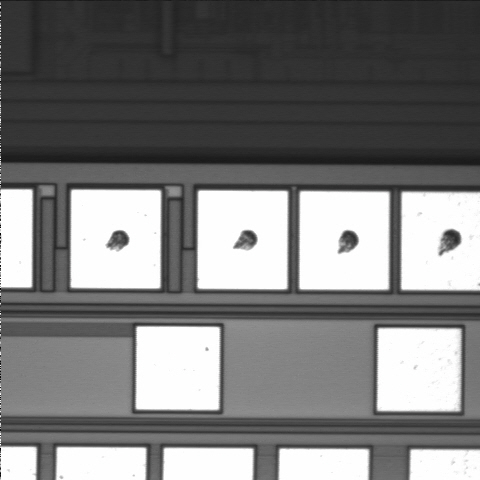pad: (71, 190, 161, 288), (198, 191, 288, 289), (300, 191, 389, 290), (136, 327, 220, 410), (377, 328, 461, 411)
